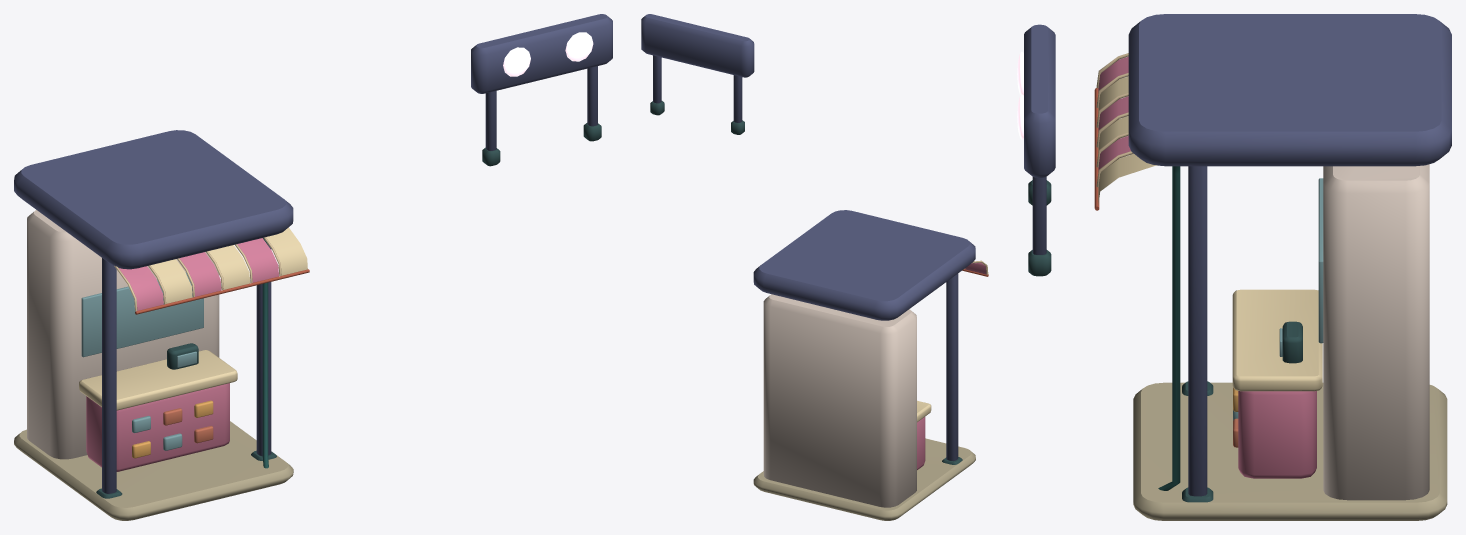
File: japan_market_4.glb
3 renders of one model, left to right at view 1: azimuth 30°, elevation 25°; view 2: azimuth 150°, elevation 25°; view 3: azimuth 270°, elevation 25°, orthographic. The views are drawn at different scales.
Visible parts, largest first — view 1: JapanMarket4; view 2: JapanMarket4; view 3: JapanMarket4.
Part boxes in pixels (x1,y1,x2,y2): JapanMarket4: (14, 14, 612, 520); JapanMarket4: (641, 14, 988, 520); JapanMarket4: (1017, 14, 1451, 520).
Bounding box in the file's own units: 5.9 × 5.2 × 3.43.
